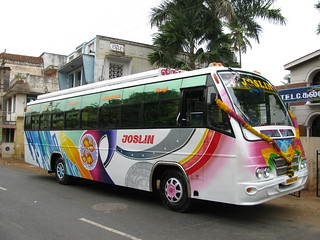bus: (23, 66, 307, 213)
